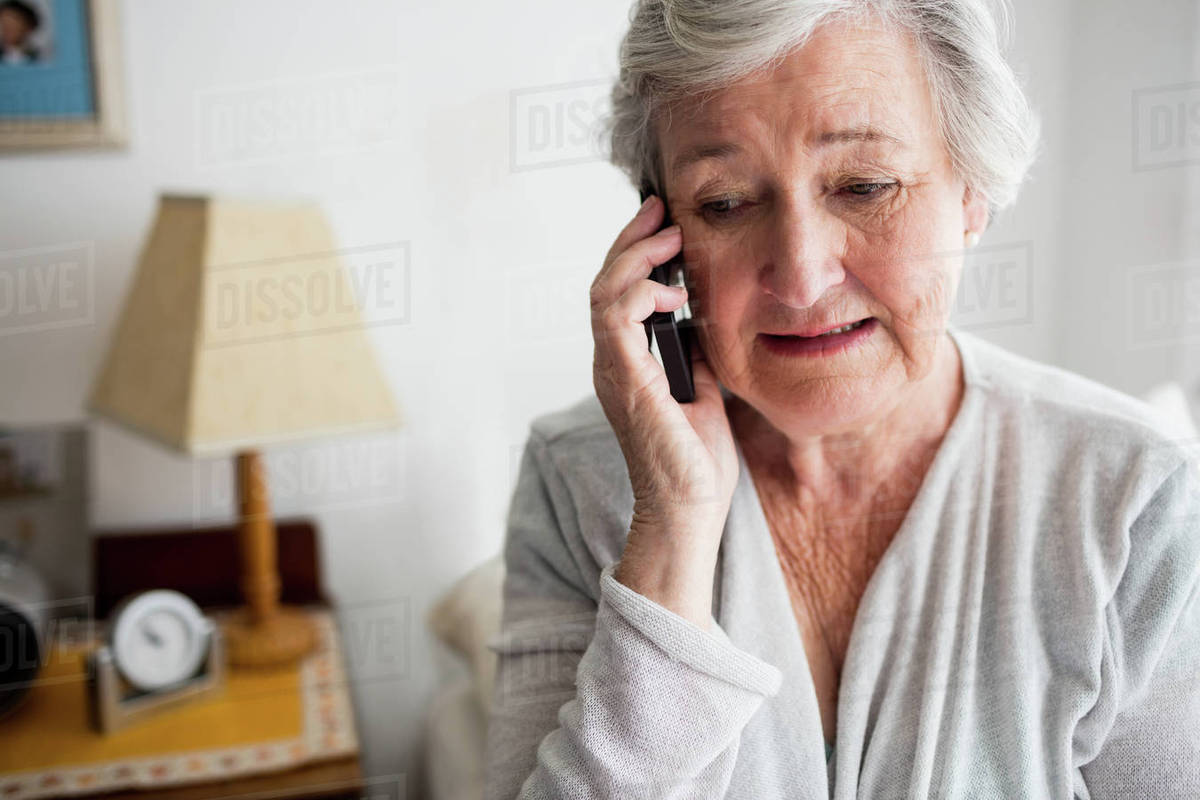phone: (614, 173, 724, 418)
talk: (580, 110, 962, 526)
